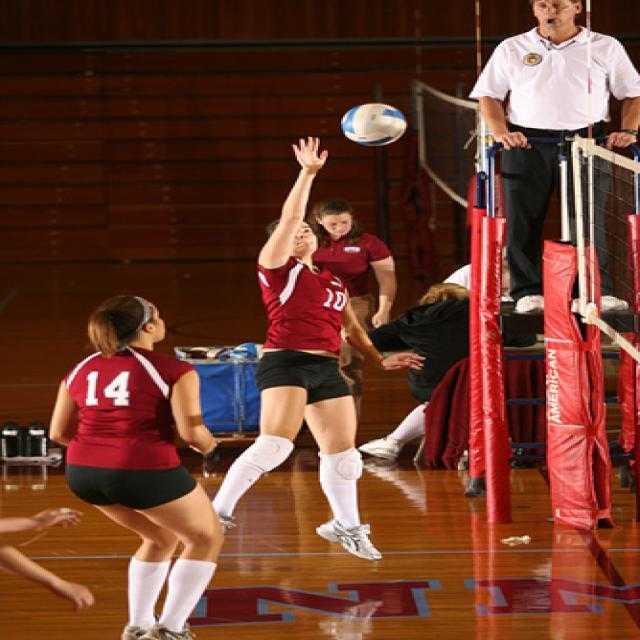volleyball: (340, 101, 408, 149)
